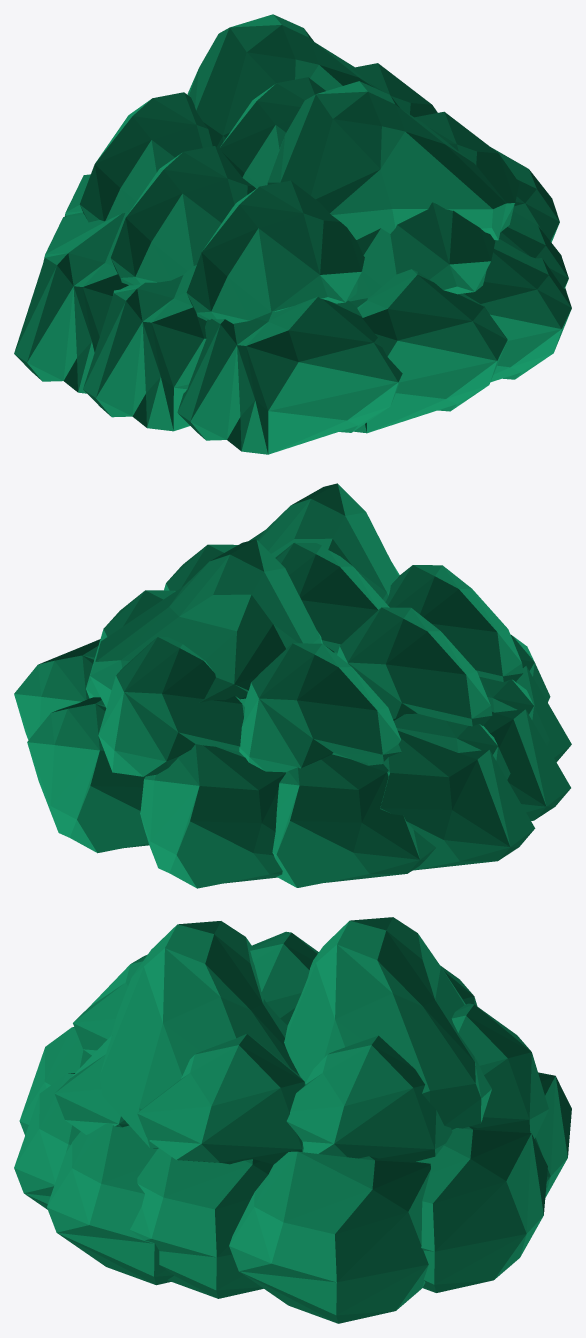
Rendered from Arbusto.obj.
3 views of the same model, one above another, from view 1: azimuth 30°, elevation 25°; view 2: azimuth 150°, elevation 25°; view 3: azimuth 270°, elevation 25° (orthographic). The views are drawn at different scales.
Parts seen in each view (by area): view 1: Lowpoly_Tree_016; view 2: Lowpoly_Tree_016; view 3: Lowpoly_Tree_016.
Boxes of the visible parts, left/top/right/bottom form: Lowpoly_Tree_016: left=14, top=14, right=571, bottom=454; Lowpoly_Tree_016: left=14, top=483, right=571, bottom=888; Lowpoly_Tree_016: left=14, top=917, right=571, bottom=1323.
Bounding box in the file's own units: 20.45 × 11 × 18.34.
